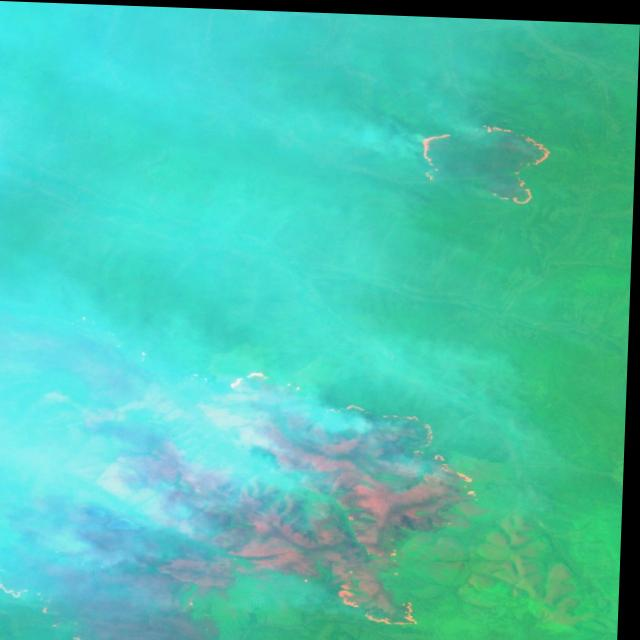fire: (0, 358, 489, 640), (402, 116, 556, 202)
